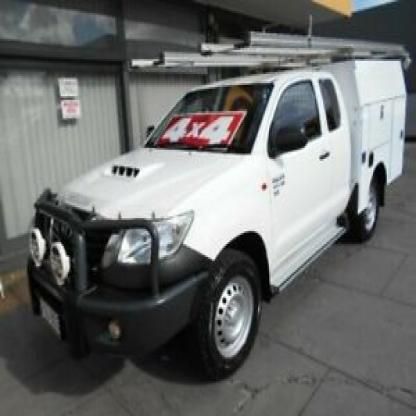light_vehicle: (24, 46, 404, 390)
